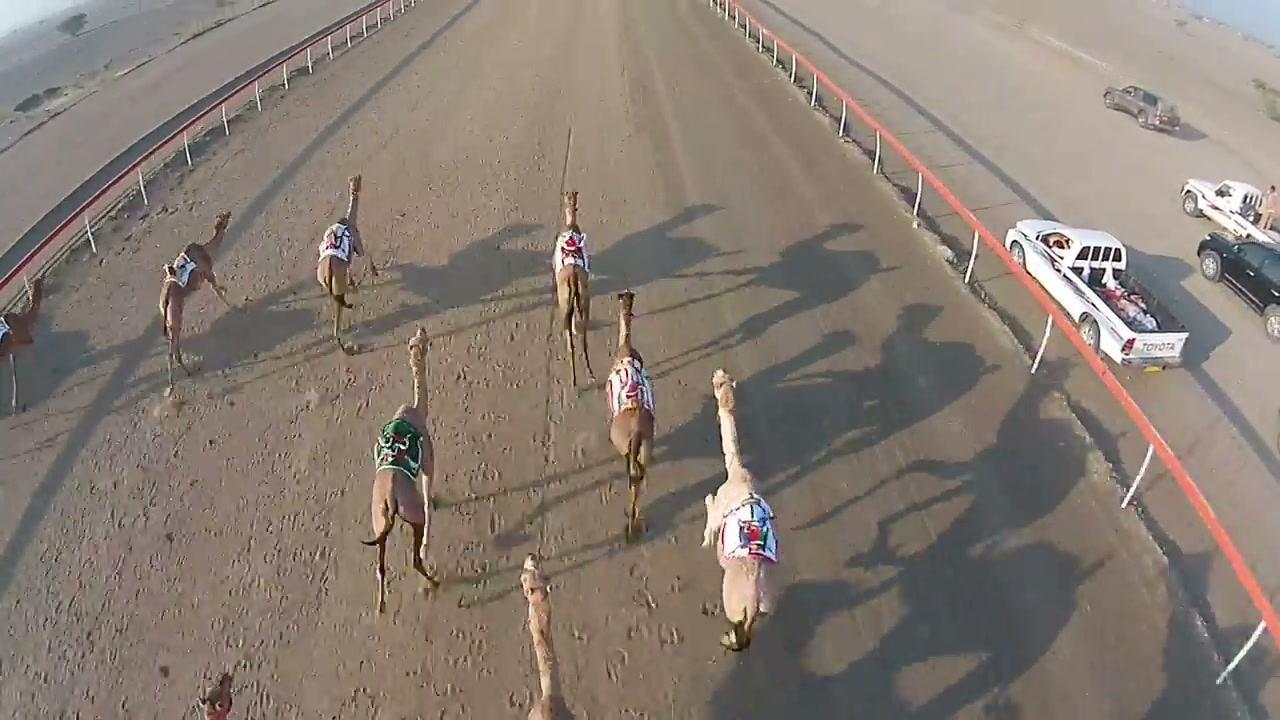animal_foot_print: (37, 371, 237, 704), (217, 315, 388, 689), (466, 311, 569, 704), (580, 533, 709, 704)
